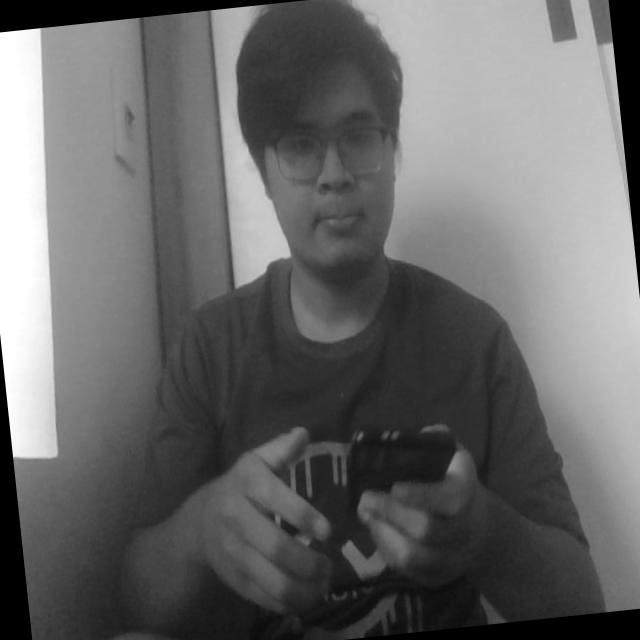phone: (338, 408, 464, 538)
